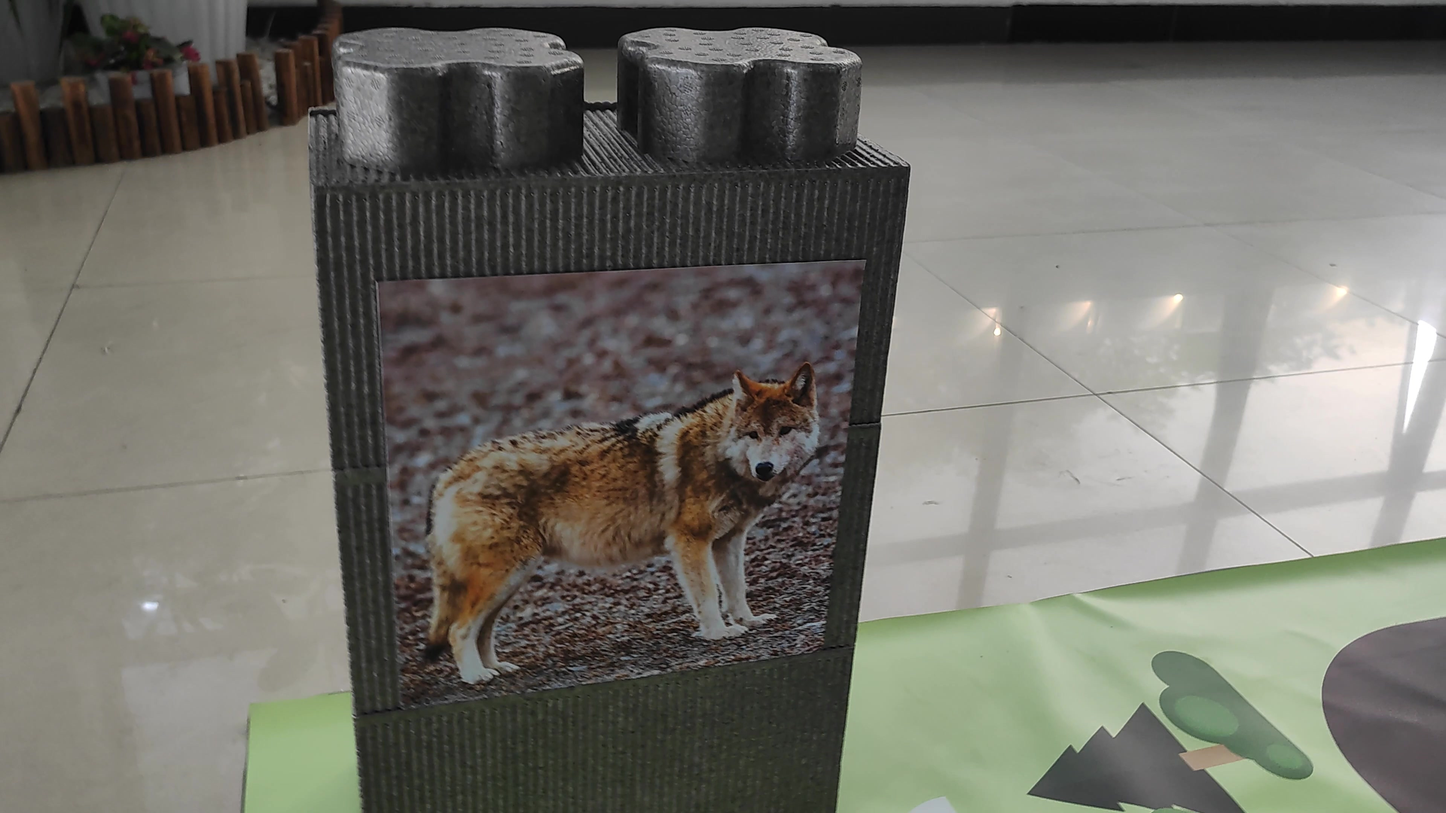wolf: (399, 369, 834, 684)
